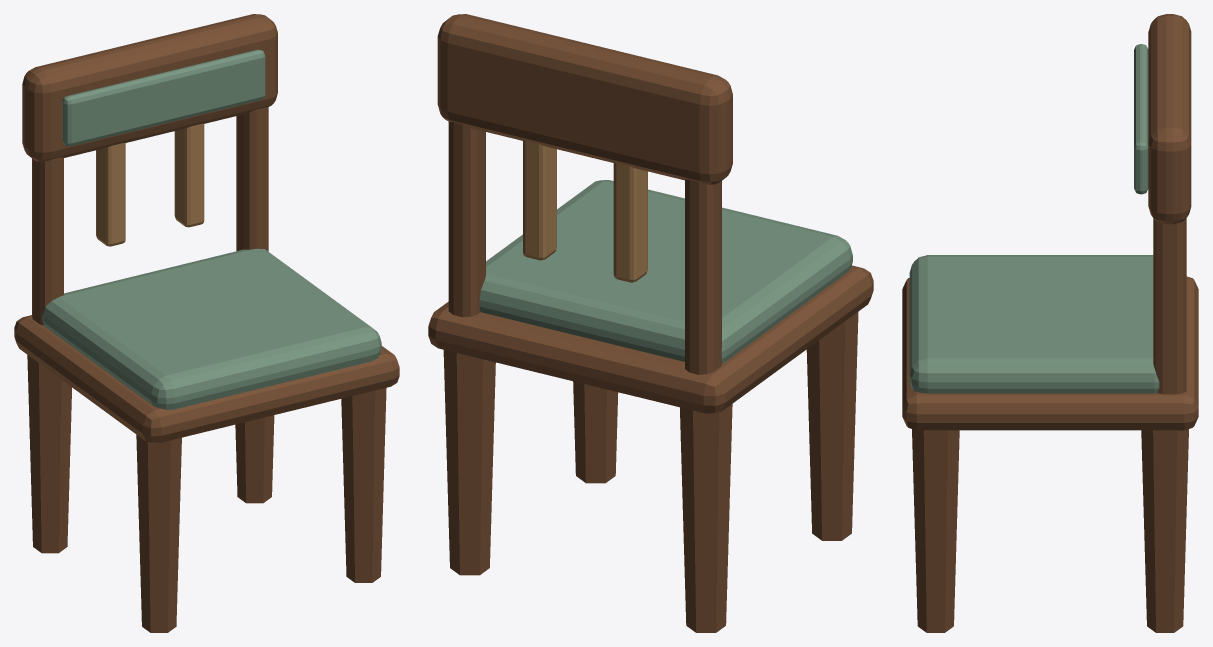
File: SM_CH_Story_Chair.fbx
3 views of the same model, side by side, from view 1: azimuth 30°, elevation 25°; view 2: azimuth 150°, elevation 25°; view 3: azimuth 270°, elevation 25° (orthographic). The views are drawn at different scales.
Visible parts, largest first — view 1: SM_CH_Story_Chair; view 2: SM_CH_Story_Chair; view 3: SM_CH_Story_Chair.
Boxes of the visible parts, left/top/right/bottom form: SM_CH_Story_Chair: left=14, top=14, right=399, bottom=632; SM_CH_Story_Chair: left=428, top=14, right=873, bottom=632; SM_CH_Story_Chair: left=902, top=14, right=1198, bottom=632.
Size of the model in its own units: 6500 by 6200 by 11600.
